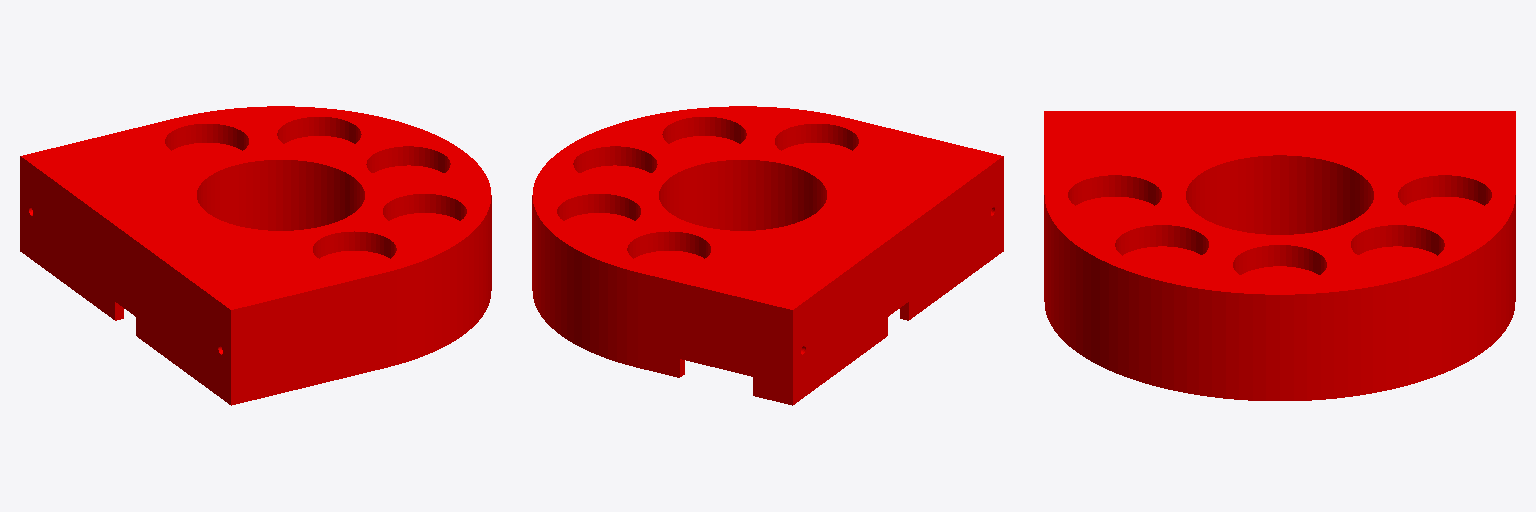
The robot description file, URDF, robot "board":
<?xml version="1.0" ?>
<robot name="board">
  <link name="board_frame1">
    <inertial>
      <!-- COM: STL bounding box 중심 (단위 m) -->
      <origin xyz="0.0075 0 0.025" rpy="0 0 0"/>
      <!-- 3D 프린터 + 25% infill 가정, 약 0.56 kg -->
      <mass value="0.56"/>
      <!-- 직육면체 근사 관성 모멘트 (kg·m^2), COM 기준 -->
      <inertia
        ixx="0.00198"
        iyy="0.00171"
        izz="0.00346"
        ixy="0.0"
        iyz="0.0"
        ixz="0.0"/>
    </inertial>

    <visual>
      <origin xyz="0 0 0" rpy="0 0 0"/>
      <geometry>
        <mesh filename="package://kat_description/meshes/board/board_frame1.stl"/>
      </geometry>
      <material name="silver">
        <color rgba="1 0 0 1"/>
      </material>
    </visual>

    <collision>
      <origin xyz="0 0 0" rpy="0 0 0"/>
      <geometry>
        <mesh filename="package://kat_description/meshes/board/board_frame1.stl"/>
      </geometry>
    </collision>
  </link>

  <gazebo>
    <plugin name="control" filename="libgazebo_ros_control.so"/>
  </gazebo>
</robot>

--- What the picture shows (computed from the rendered views, not written in the file) ---
The picture shows the robot from 3 angles, left to right: view 1: azimuth 30°, elevation 25°; view 2: azimuth 150°, elevation 25°; view 3: azimuth 270°, elevation 25°; orthographic projection.
Model board with 1 links and 0 joints (none), rooted at board_frame1, posed all joints at 0.
Links seen in each view (by area): view 1: board_frame1; view 2: board_frame1; view 3: board_frame1.
Link boxes in pixels (<box>): board_frame1: <box>20,106,491,405</box>; board_frame1: <box>532,106,1003,405</box>; board_frame1: <box>1044,111,1515,400</box>.
Size in the robot's own frame: 185 by 200 by 50 metres.
1 mesh visuals loaded from 1 distinct referenced files (1 binary STL).
